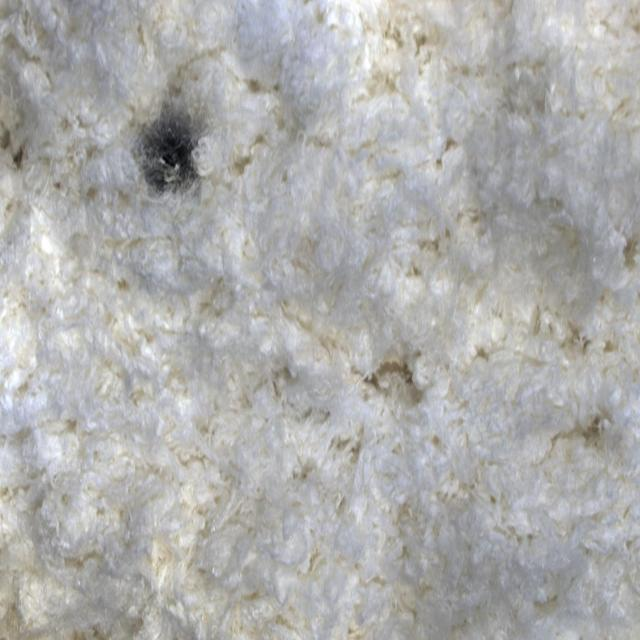dust: (106, 44, 247, 267)
